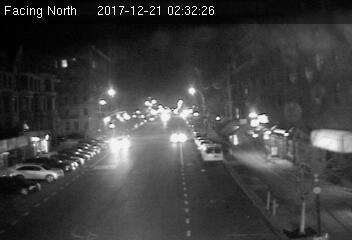car: (111, 134, 130, 151), (168, 131, 189, 145)
truck: (203, 144, 222, 164)
